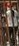boots: (10, 38, 19, 46), (10, 41, 19, 46)
hard-hat: (2, 0, 10, 9)
ppe-suit: (10, 23, 19, 46)
